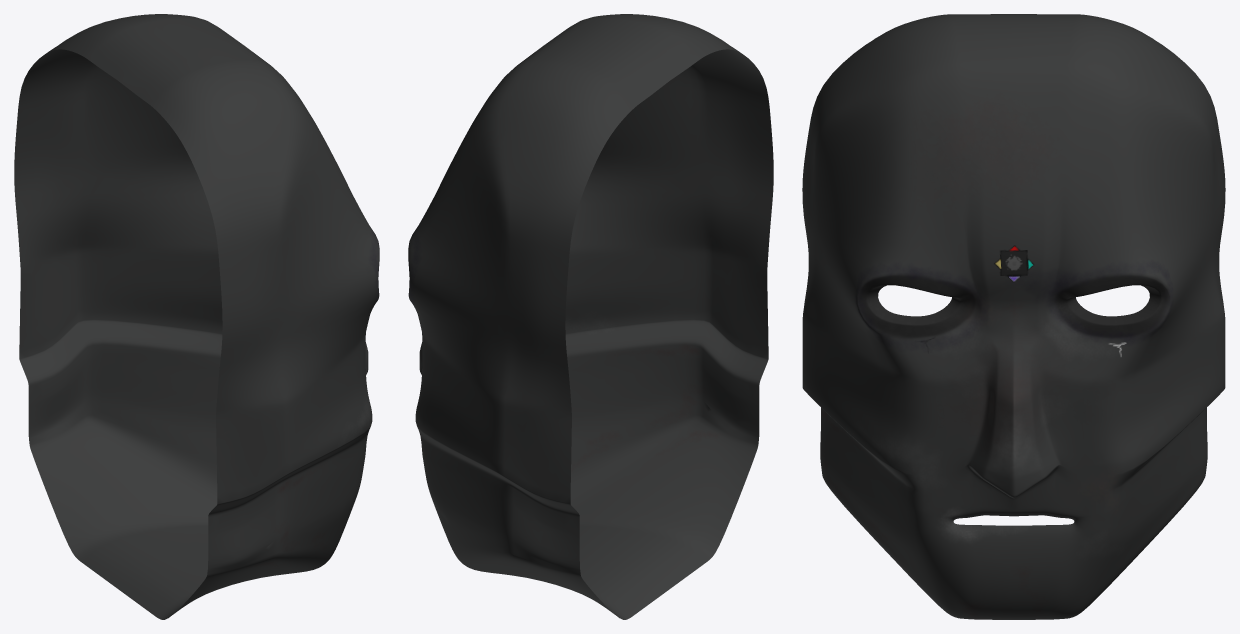
File: black_mask.fbx
3 renders of one model, left to right at view 1: azimuth 30°, elevation 25°; view 2: azimuth 150°, elevation 25°; view 3: azimuth 270°, elevation 25°, orthographic.
Parts seen in each view (by area): view 1: node_41f9089f_5c29_435d_a82a_d89d6dd498b4_mesh0; view 2: node_41f9089f_5c29_435d_a82a_d89d6dd498b4_mesh0; view 3: node_41f9089f_5c29_435d_a82a_d89d6dd498b4_mesh0.
Boxes of the visible parts, <box> form: node_41f9089f_5c29_435d_a82a_d89d6dd498b4_mesh0: <box>14,14,379,619</box>; node_41f9089f_5c29_435d_a82a_d89d6dd498b4_mesh0: <box>408,14,773,619</box>; node_41f9089f_5c29_435d_a82a_d89d6dd498b4_mesh0: <box>802,14,1225,619</box>.
Size of the model in its own units: 99.96 by 203 by 145.
1 material, 1 textured.
